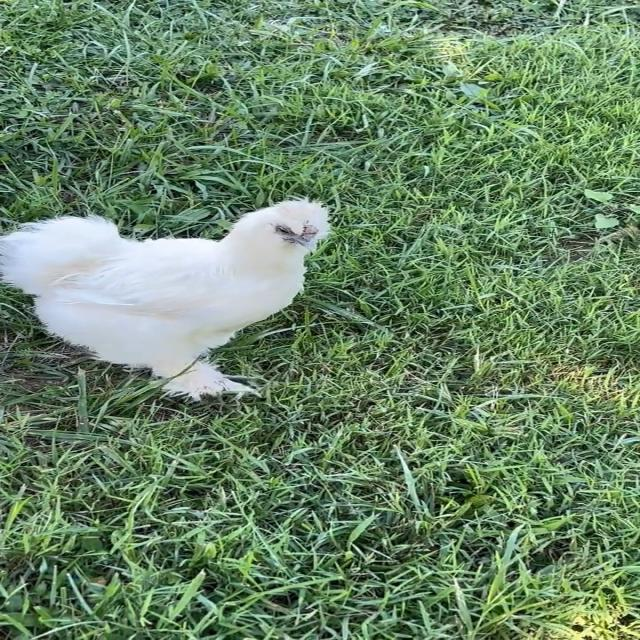menacing: (0, 173, 338, 417)
